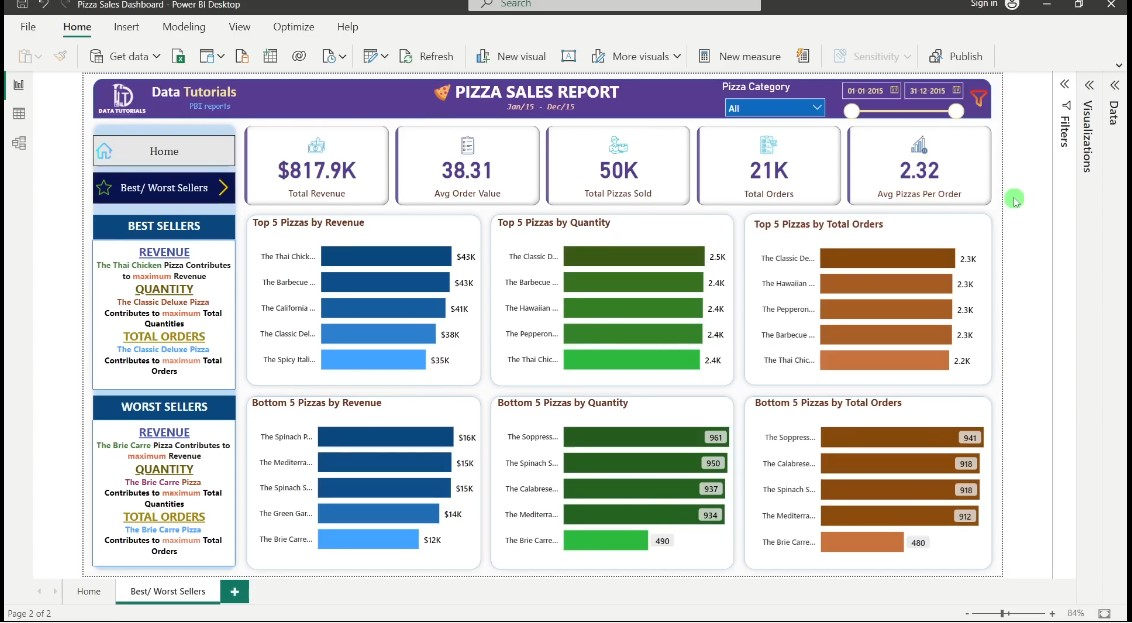

Layout of this report page (visuals, bound fields, positions):
{"tool":"powerbi","page":{"name":"Best/Worst Sellers","canvas":[1500,820],"ordinal":1},"visuals":[{"type":"cardVisual","fields":{"Data":["pizza_sales.Total Revenue","pizza_sales.AVG Order Value","pizza_sales.Total Pizza Sold","pizza_sales.Total Orders","pizza_sales.AVG Pizzas Per Order"]},"box":[337.7,93.4,1149.2,150.8],"z":0},{"type":"shape","box":[11.6,4.3,1475.4,88.4],"z":1000},{"type":"textbox","box":[634.8,1.4,343.5,63.8],"z":2000},{"type":"textbox","box":[750,55,130,38.3],"z":3000},{"type":"shape","box":[11.5,93.4,326.2,726.2],"z":3500},{"type":"shape","box":[338.3,245,385,280],"z":4000},{"type":"textbox","box":[24.3,240.5,301.4,47.3],"z":6000},{"type":"textbox","box":[25.7,287.8,300,213.5],"z":7000},{"type":"textbox","box":[24.3,516.2,302.7,41.9],"z":8000},{"type":"textbox","box":[24.3,556.8,301.4,245.9],"z":9000},{"type":"slicer","title":"Pizza Category","fields":{"Values":["pizza_sales.pizza_category"]},"box":[995.7,7.2,204.3,72.5],"z":10000},{"type":"slicer","title":"Order Date","fields":{"Values":["pizza_sales.order_date"]},"box":[1213.3,5,226.7,88.3],"z":11000},{"type":"shape","box":[723.3,245,385,280],"z":12000},{"type":"shape","box":[1103.3,245,385,280],"z":13000},{"type":"shape","box":[338.3,525,385,286.7],"z":14000},{"type":"shape","box":[723.3,533.3,385,286.7],"z":15000},{"type":"shape","box":[1108.3,533.3,385,286.7],"z":16000},{"type":"barChart","title":"Top 5 BY Revenue","fields":{"Category":["pizza_sales.pizza_name"],"Y":["pizza_sales.Total Revenue"]},"box":[356.7,258.3,351.7,253.3],"z":17000},{"type":"barChart","title":"Bottom 5 BY Revenue","fields":{"Category":["pizza_sales.pizza_name"],"Y":["pizza_sales.Total Revenue"]},"box":[356.7,533.3,350,266.7],"z":18000},{"type":"barChart","title":"Top 5 BY Quantity","fields":{"Category":["pizza_sales.pizza_name"],"Y":["pizza_sales.Total Pizza Sold"]},"box":[736.7,258.3,361.7,253.3],"z":19000},{"type":"barChart","title":"Bottom5 BY Quantity","fields":{"Category":["pizza_sales.pizza_name"],"Y":["pizza_sales.Total Pizza Sold"]},"box":[736.7,546.7,361.7,253.3],"z":20000},{"type":"barChart","title":"Top 5 BY Orders","fields":{"Category":["pizza_sales.pizza_name"],"Y":["pizza_sales.Total Orders"]},"box":[1108.3,258.3,368.3,253.3],"z":21000},{"type":"barChart","title":"Bottom5 BY Orders","fields":{"Category":["pizza_sales.pizza_name"],"Y":["pizza_sales.Total Orders"]},"box":[1118.3,558.3,368.3,253.3],"z":22000},{"type":"pageNavigator","box":[24.3,175.7,300,50],"z":22001},{"type":"pageNavigator","box":[23,112.2,300,50],"z":22002},{"type":"shape","box":[268.3,113.3,53.3,43.3],"z":22003},{"type":"shape","box":[25,181.7,48.3,36.7],"z":22004}]}

Visuals, with their boxes on the page's 1500x820 design canvas (x1, y1, x2, y2). These are canvas units, not pixel positions in the 1132x623 screenshot, which may show the page scaled, cropped or inside an application window:
cardVisual - pizza_sales.Total Revenue x pizza_sales.AVG Order Value: (338, 93, 1487, 244)
shape: (12, 4, 1487, 93)
textbox: (635, 1, 978, 65)
textbox: (750, 55, 880, 93)
shape: (12, 93, 338, 820)
shape: (338, 245, 723, 525)
textbox: (24, 240, 326, 288)
textbox: (26, 288, 326, 501)
textbox: (24, 516, 327, 558)
textbox: (24, 557, 326, 803)
"Pizza Category" slicer: (996, 7, 1200, 80)
"Order Date" slicer: (1213, 5, 1440, 93)
shape: (723, 245, 1108, 525)
shape: (1103, 245, 1488, 525)
shape: (338, 525, 723, 812)
shape: (723, 533, 1108, 820)
shape: (1108, 533, 1493, 820)
"Top 5 BY Revenue" barChart: (357, 258, 708, 512)
"Bottom 5 BY Revenue" barChart: (357, 533, 707, 800)
"Top 5 BY Quantity" barChart: (737, 258, 1098, 512)
"Bottom5 BY Quantity" barChart: (737, 547, 1098, 800)
"Top 5 BY Orders" barChart: (1108, 258, 1477, 512)
"Bottom5 BY Orders" barChart: (1118, 558, 1487, 812)
pageNavigator: (24, 176, 324, 226)
pageNavigator: (23, 112, 323, 162)
shape: (268, 113, 322, 157)
shape: (25, 182, 73, 218)
